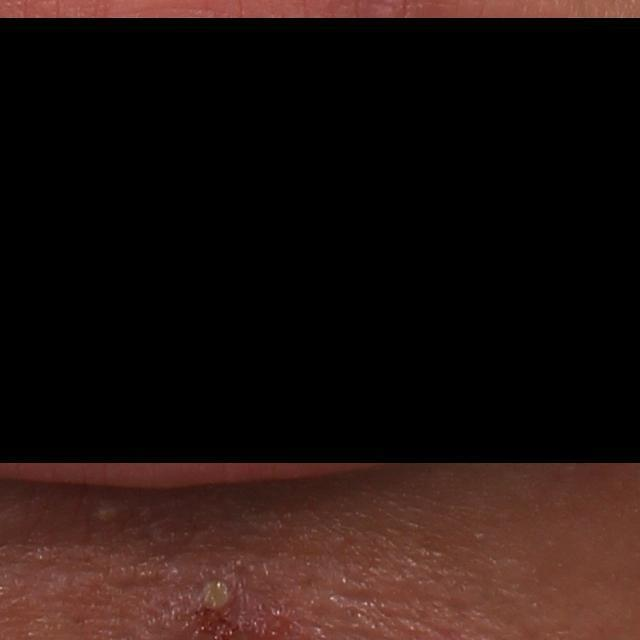pustule: (85, 494, 134, 533)
